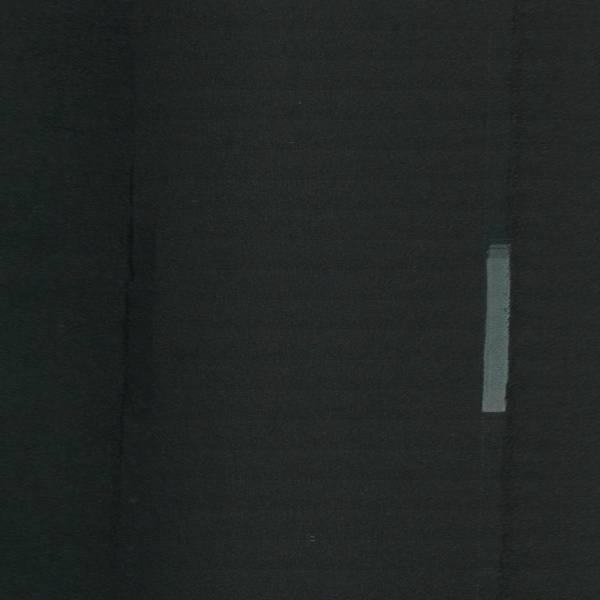road_damage: (115, 171, 135, 456)
